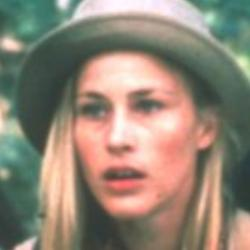face: (21, 28, 242, 249)
